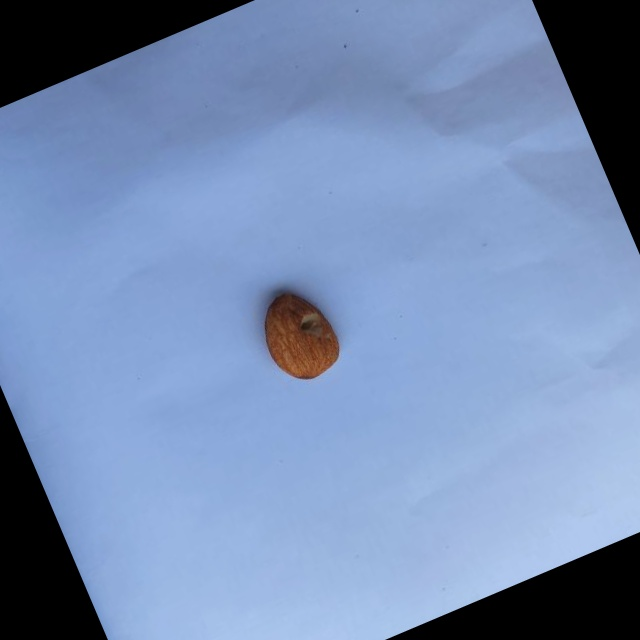grade3: (247, 275, 354, 395)
